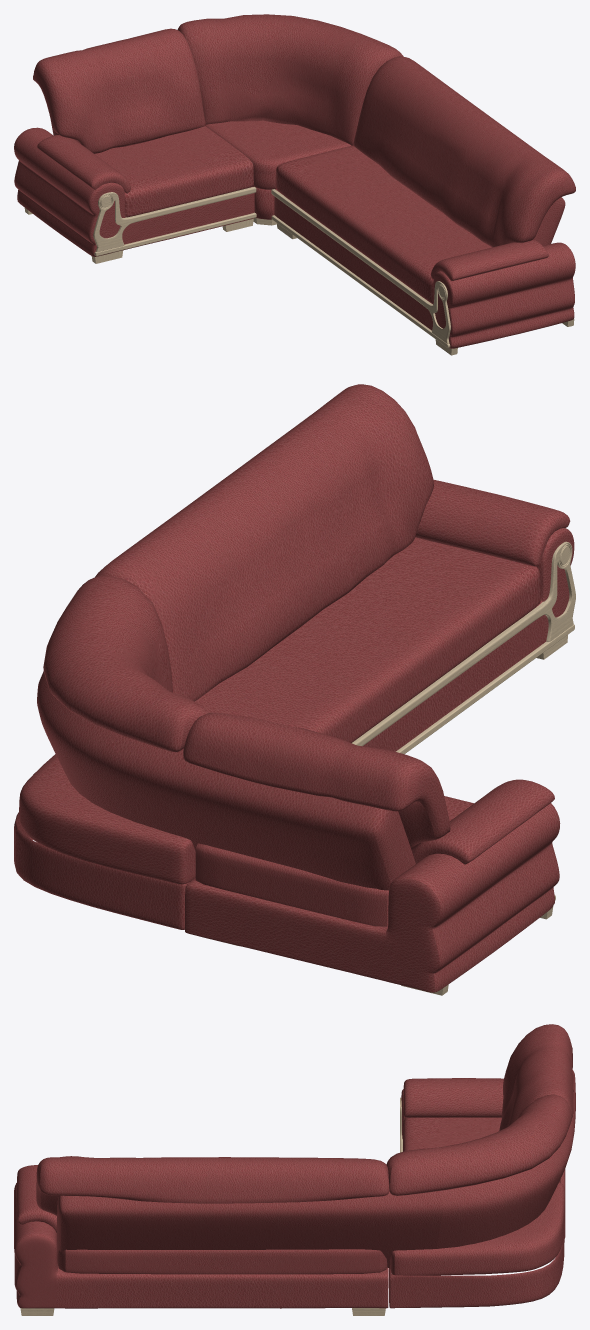
Rendered from Люмикс-У.fbx.
3 views of the same model, one above another, from view 1: azimuth 30°, elevation 25°; view 2: azimuth 150°, elevation 25°; view 3: azimuth 270°, elevation 25° (orthographic). The views are drawn at different scales.
Parts seen in each view (by area): view 1: Lumix_U; view 2: Lumix_U; view 3: Lumix_U.
Part boxes in pixels (x1,y1,x2,y2): Lumix_U: [14, 14, 575, 355]; Lumix_U: [14, 384, 575, 995]; Lumix_U: [14, 1024, 575, 1315].
Size of the model in its own units: 207 by 92.21 by 303.
